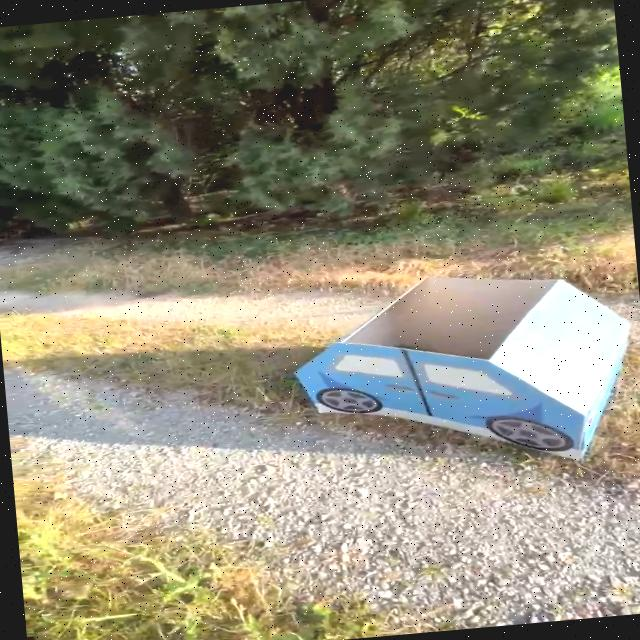blue_car: (258, 239, 640, 523)
